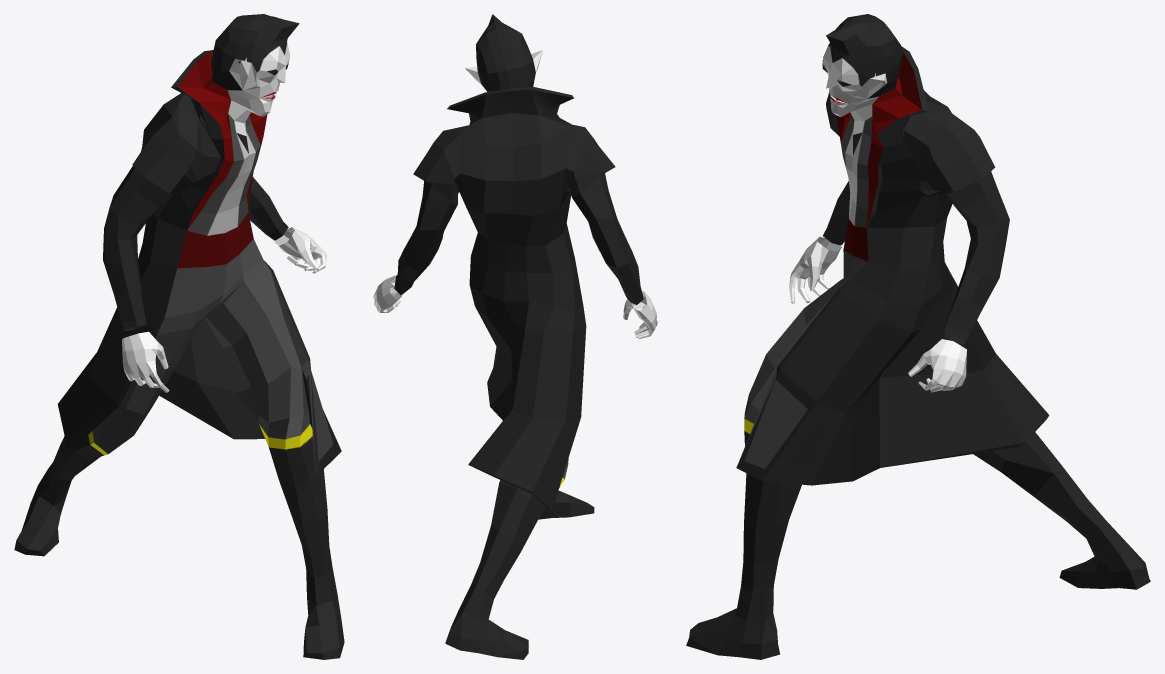
Rendered from VampireIdle(43).obj.
3 renders of one model, left to right at view 1: azimuth 30°, elevation 25°; view 2: azimuth 150°, elevation 25°; view 3: azimuth 270°, elevation 25°, orthographic. The views are drawn at different scales.
Parts seen in each view (by area): view 1: Plane002; view 2: Plane002; view 3: Plane002.
Part boxes in pixels (box(x1,y1,x2,y2)): Plane002: box(14, 14, 344, 659); Plane002: box(373, 14, 657, 659); Plane002: box(686, 14, 1150, 659).
Bounding box in the file's own units: 136 × 299 × 202.
